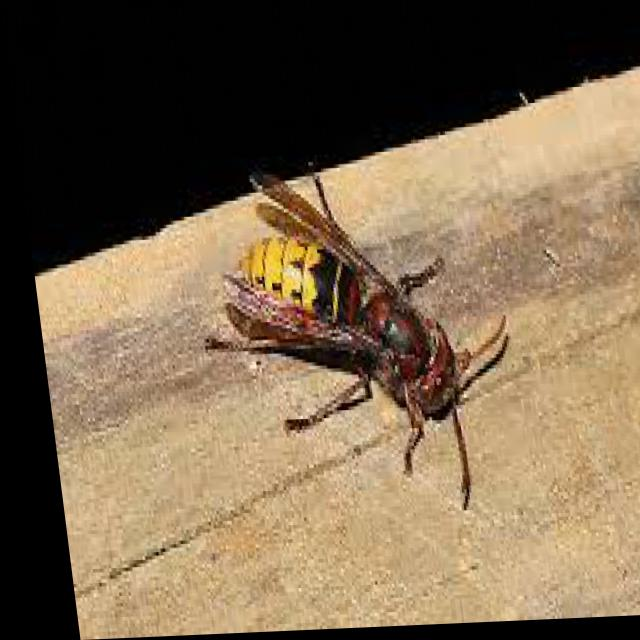Vespa Crabro: (175, 136, 523, 549)
